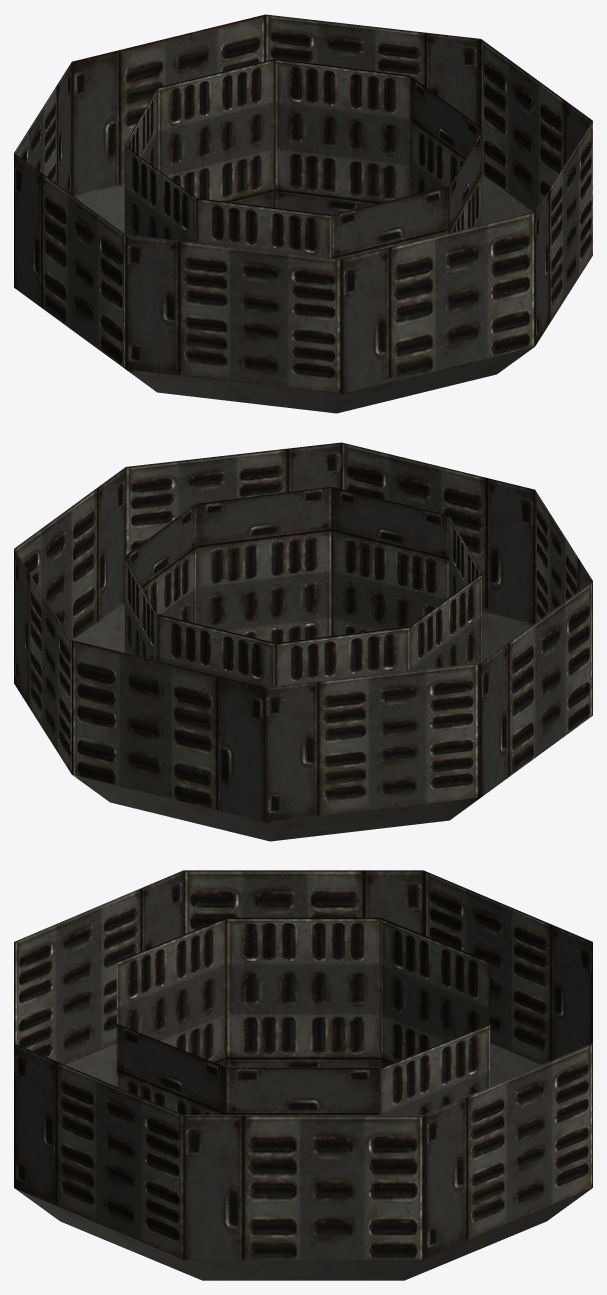
The model's file is CubeBaseFrontTecho.fbx.
The picture shows the model from 3 angles, top to bottom: view 1: azimuth 30°, elevation 25°; view 2: azimuth 150°, elevation 25°; view 3: azimuth 270°, elevation 25°; orthographic projection. The views are drawn at different scales.
Visible parts, largest first — view 1: pPipe1; view 2: pPipe1; view 3: pPipe1.
Part boxes in pixels (bbox=[...]): pPipe1: bbox=[14, 14, 592, 413]; pPipe1: bbox=[14, 442, 592, 841]; pPipe1: bbox=[14, 870, 592, 1280].
Size of the model in its own units: 2.77 by 0.9875 by 2.77.
Materials: 1 (1 with a texture image).
